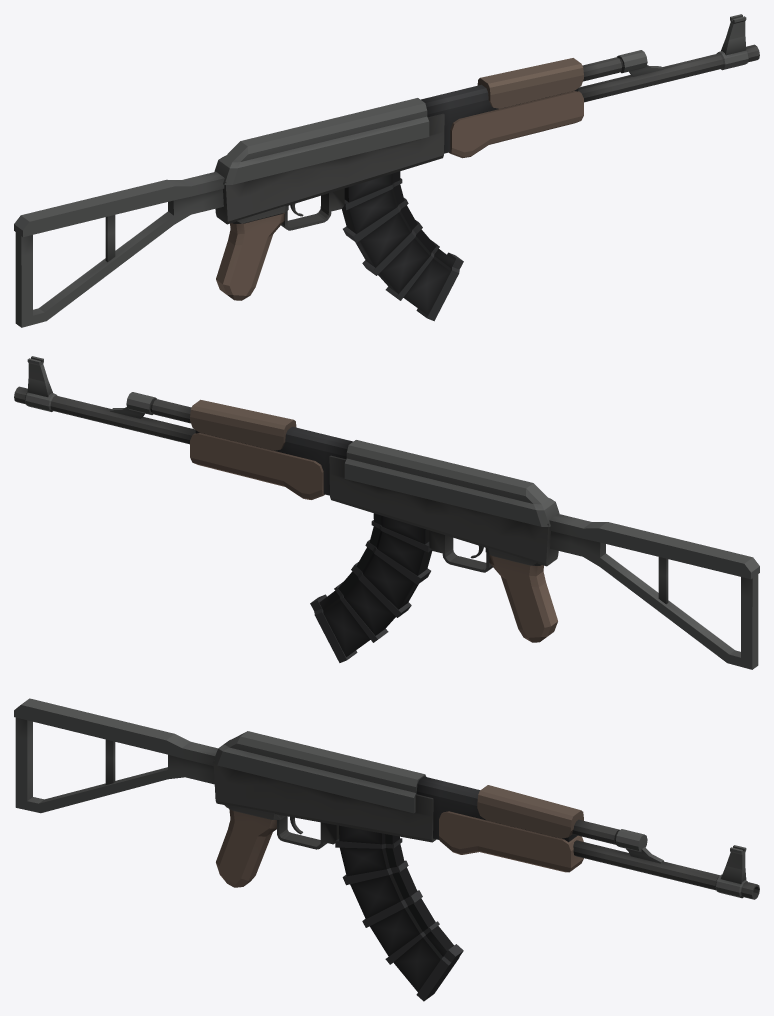
File: q-assaultrifle-4.glb
3 renders of one model, top to bottom at view 1: azimuth 30°, elevation 25°; view 2: azimuth 150°, elevation 25°; view 3: azimuth 330°, elevation 25°, orthographic.
Parts seen in each view (by area): view 1: body; view 2: body; view 3: body.
Part boxes in pixels (<box>): body: <box>14,14,759,327</box>; body: <box>14,356,759,669</box>; body: <box>14,698,759,1001</box>.
Size of the model in its own units: 0.9 by 0.2623 by 0.0321.
